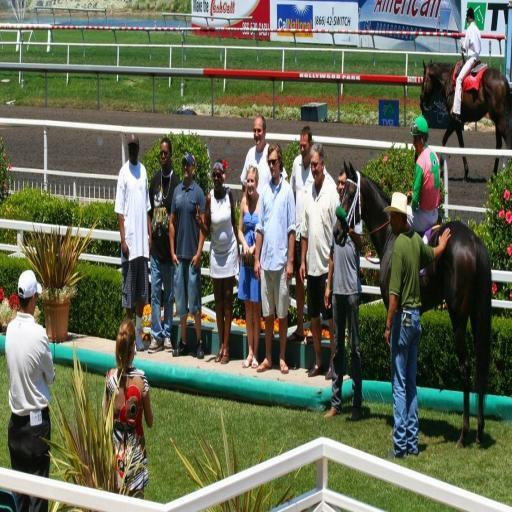horse: (335, 157, 494, 452), (420, 58, 512, 182)
